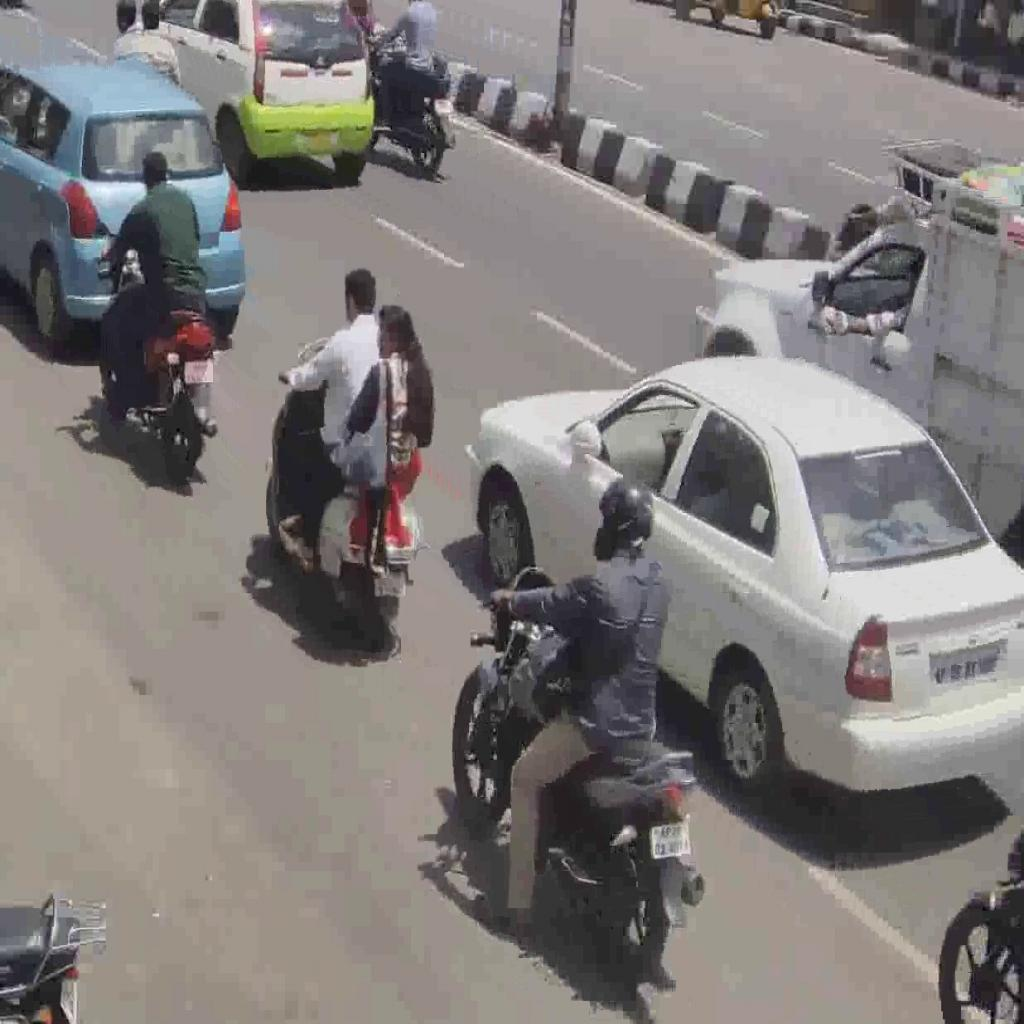helmet: (452, 572, 706, 982), (267, 337, 420, 642), (94, 244, 220, 480)
